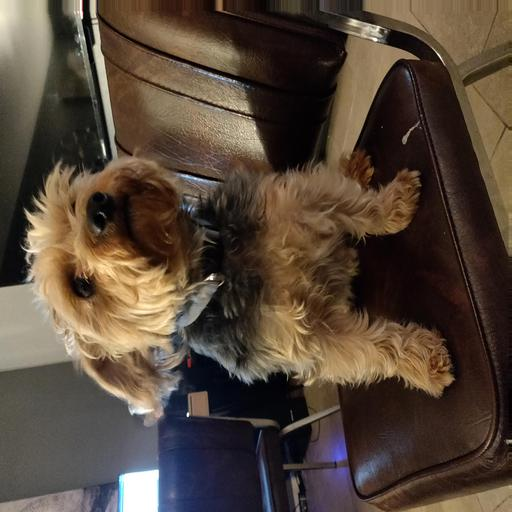cat: (32, 92, 366, 426)
